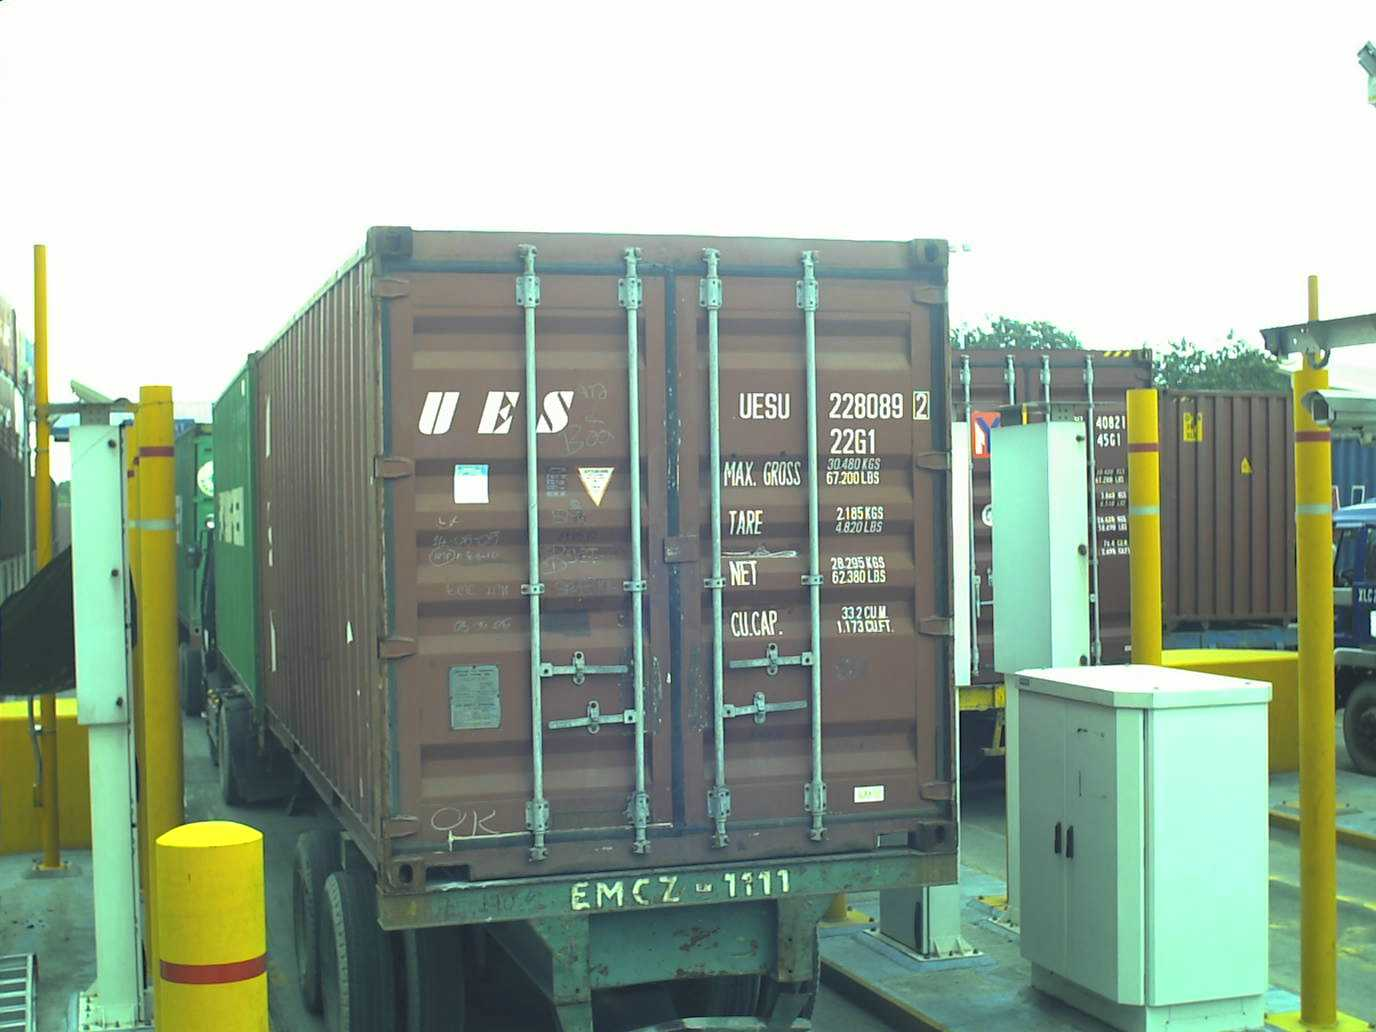container_door: (362, 221, 960, 862)
